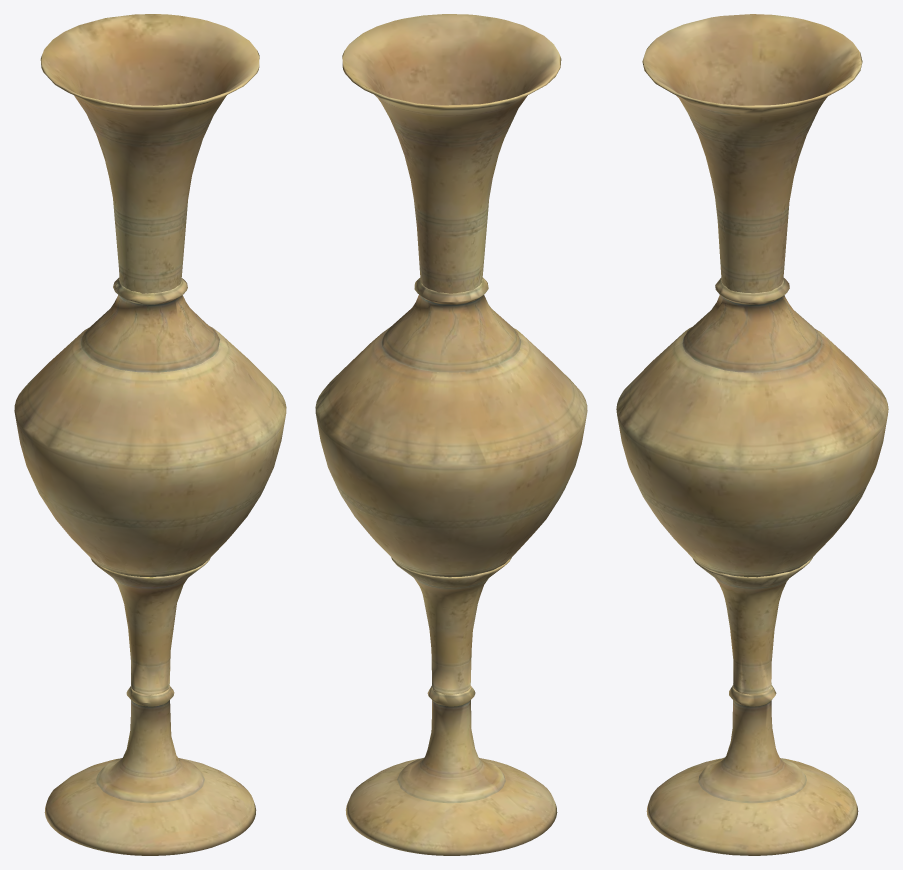
Rendered from brass_vase_01.glb.
The picture shows the model from 3 angles, left to right: view 1: azimuth 30°, elevation 25°; view 2: azimuth 150°, elevation 25°; view 3: azimuth 270°, elevation 25°; orthographic projection.
Visible parts, largest first — view 1: brass_vase_01; view 2: brass_vase_01; view 3: brass_vase_01.
Part boxes in pixels (x1,y1,x2,y2): brass_vase_01: [14, 14, 286, 855]; brass_vase_01: [315, 14, 587, 855]; brass_vase_01: [616, 14, 888, 855].
Bounding box in the file's own units: 0.2272 × 0.6925 × 0.2272.
Materials: 1 (1 with a texture image).
